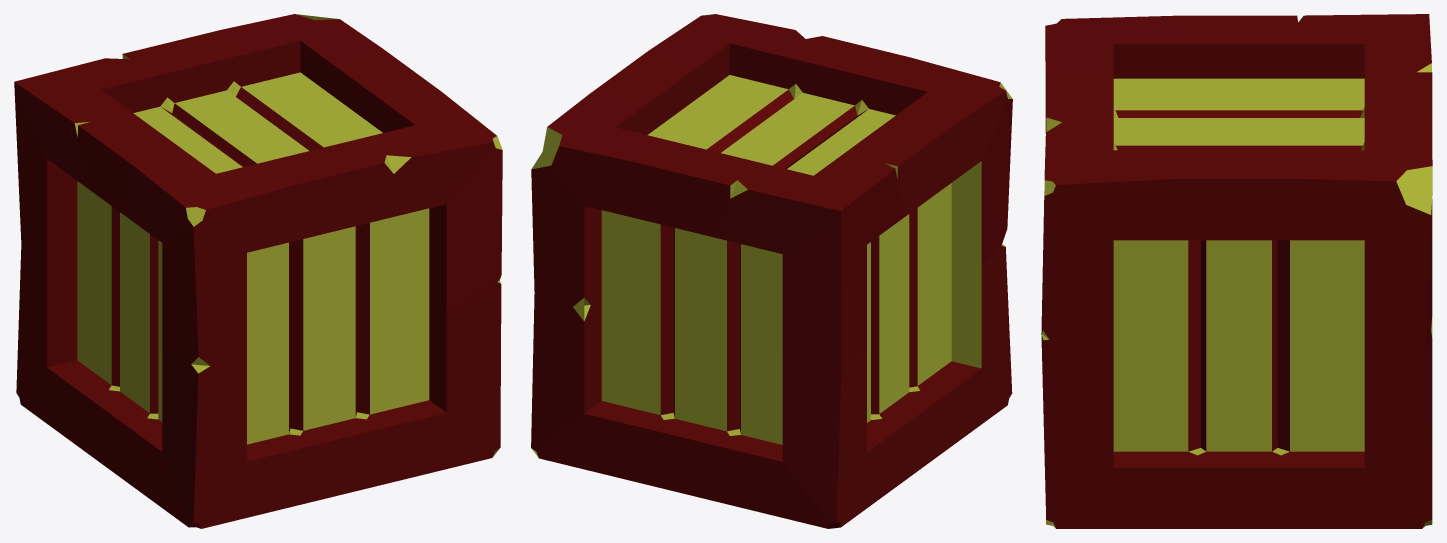
Rendered from ExplosiveBox.fbx.
3 renders of one model, left to right at view 1: azimuth 30°, elevation 25°; view 2: azimuth 150°, elevation 25°; view 3: azimuth 270°, elevation 25°, orthographic. The views are drawn at different scales.
Parts seen in each view (by area): view 1: Cube; view 2: Cube; view 3: Cube.
Part boxes in pixels (x1,y1,x2,y2): Cube: [14, 14, 502, 528]; Cube: [531, 14, 1012, 528]; Cube: [1041, 14, 1432, 528].
Size of the model in its own units: 203 by 200 by 203.
